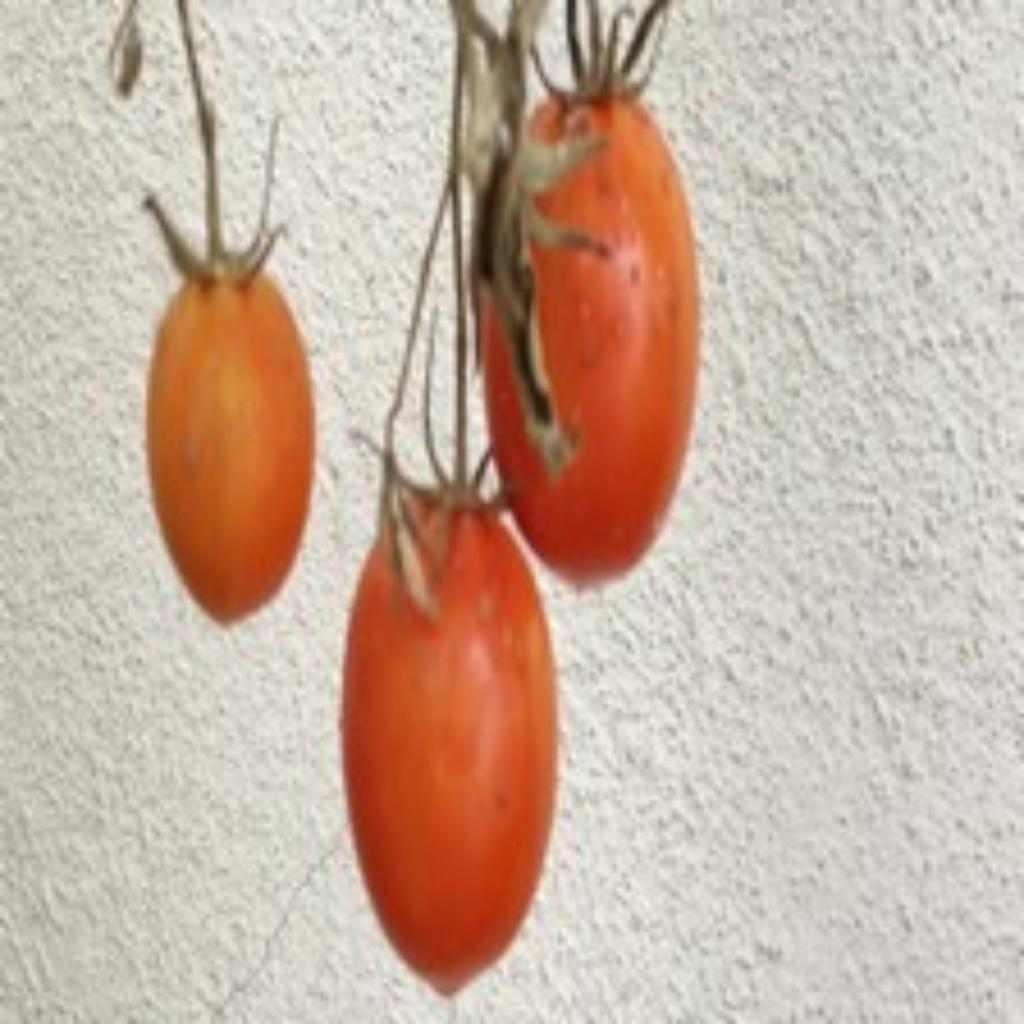tomato: (344, 492, 556, 991), (482, 96, 696, 583), (148, 272, 314, 621)
